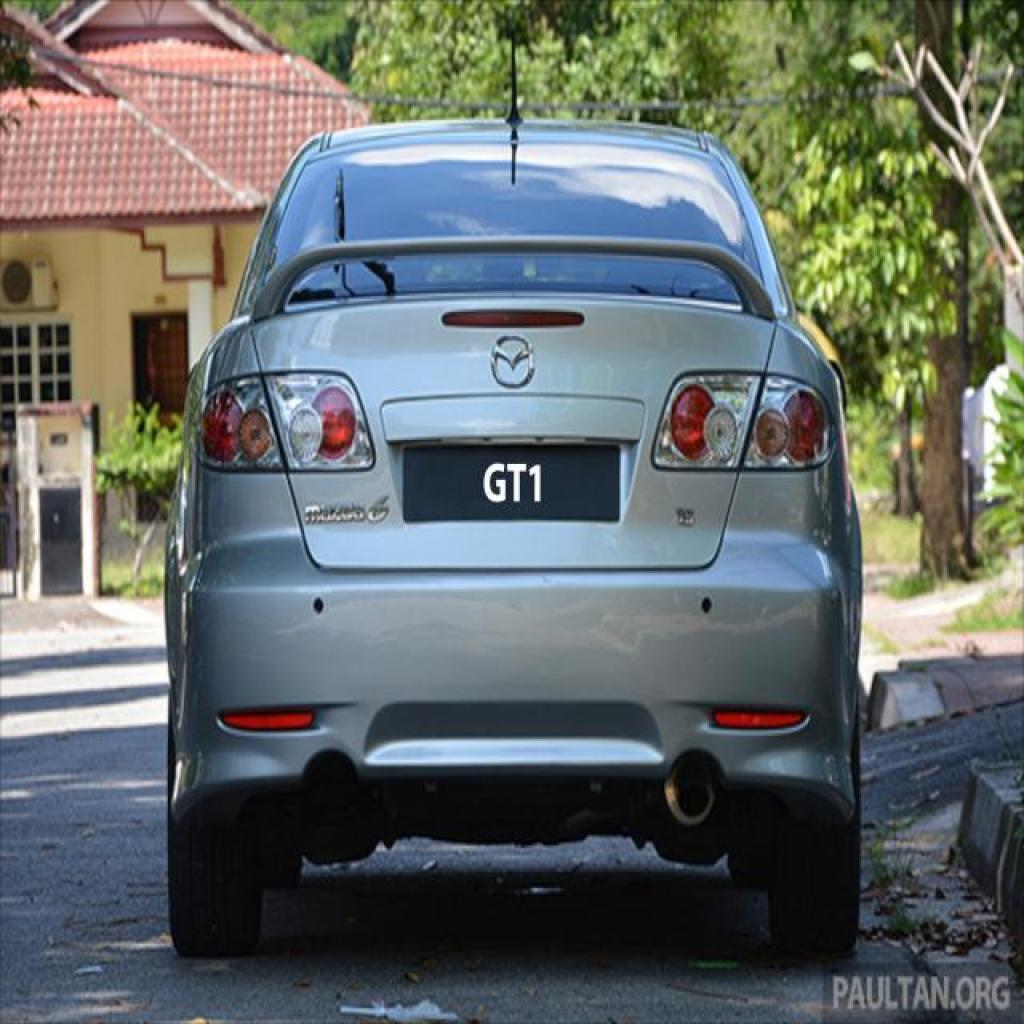car: (165, 120, 858, 952)
car plate: (403, 446, 618, 518)
